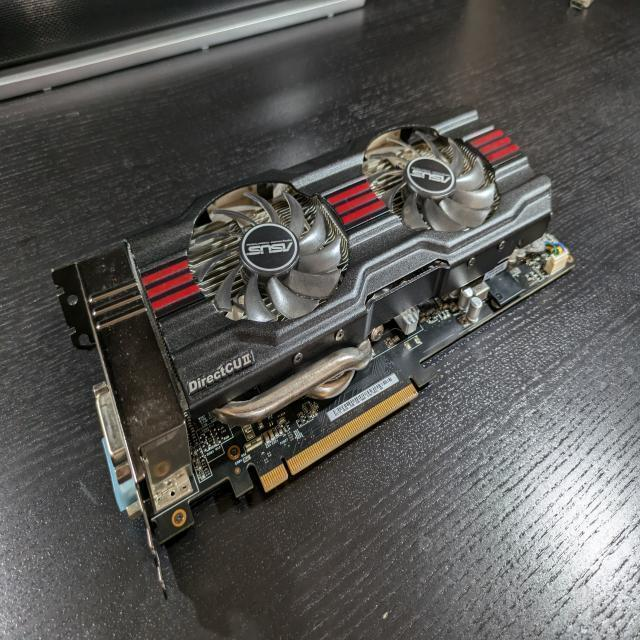GPU: (48, 101, 576, 599)
